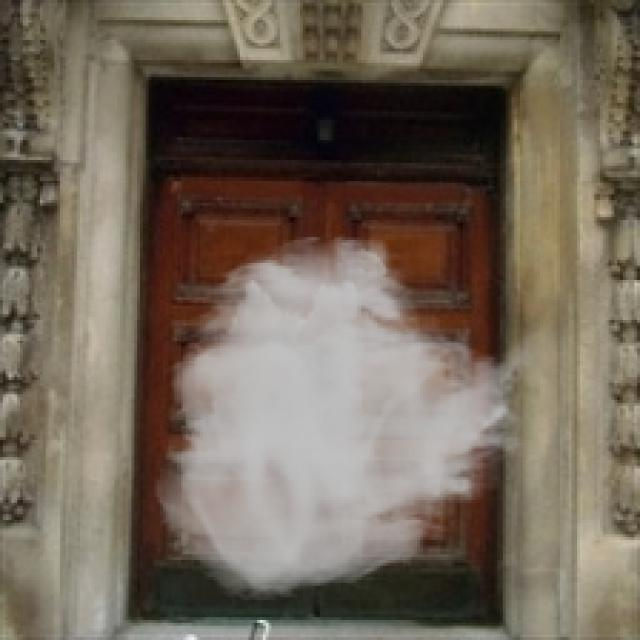smoke: (152, 231, 537, 603)
